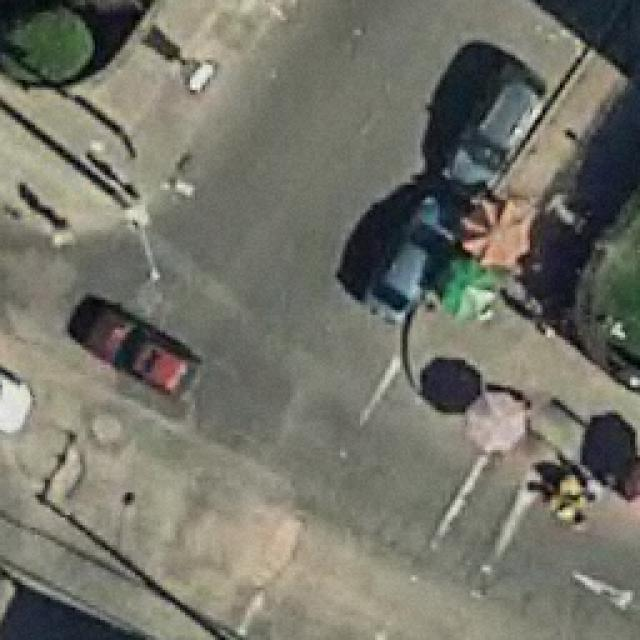vendedor_ambulante: (460, 193, 534, 271), (438, 253, 502, 326), (462, 386, 529, 454)
